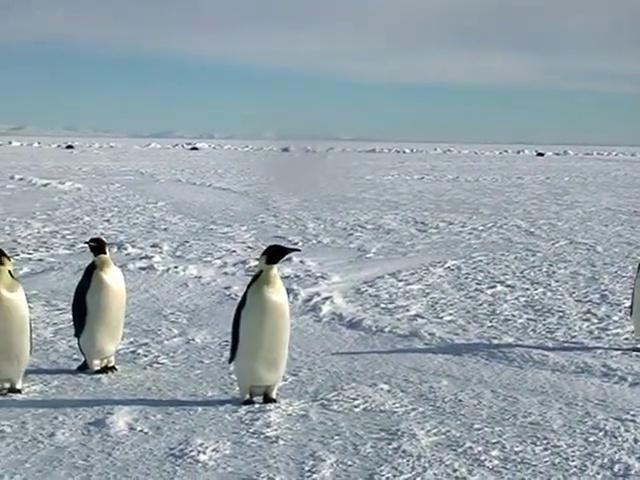animal: (230, 246, 301, 405)
